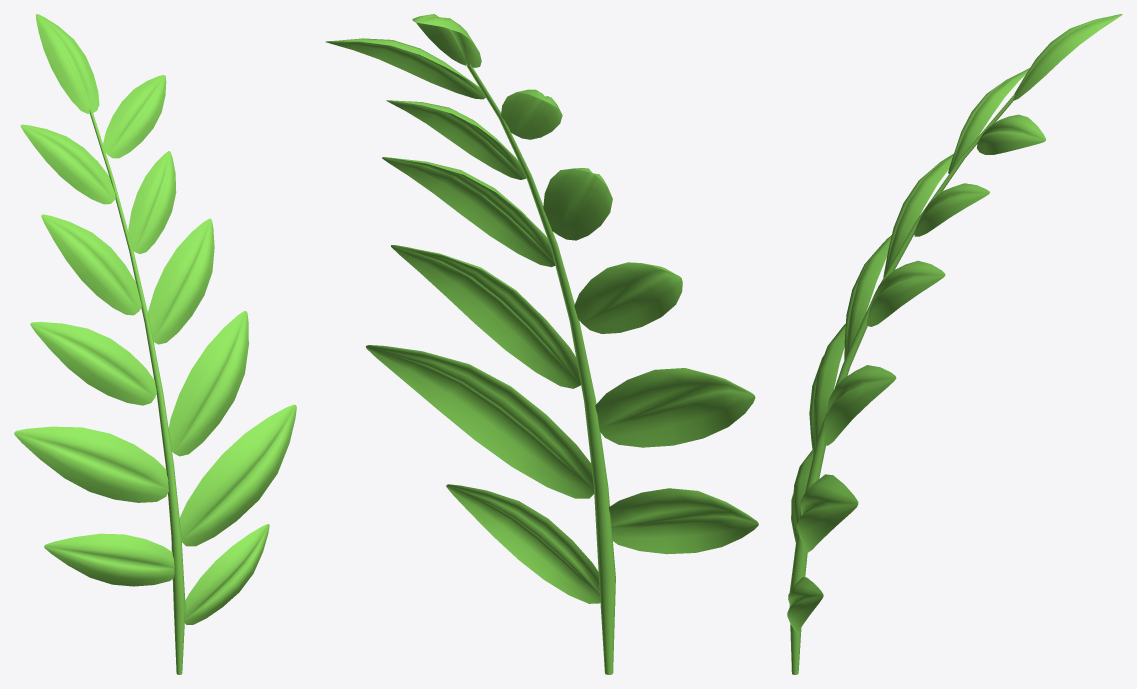
Rendered from leaf-draco.glb.
3 renders of one model, left to right at view 1: azimuth 30°, elevation 25°; view 2: azimuth 150°, elevation 25°; view 3: azimuth 270°, elevation 25°, orthographic. The views are drawn at different scales.
Visible parts, largest first — view 1: Vert.009; view 2: Vert.009; view 3: Vert.009.
Boxes of the visible parts, x1,y1,x2,y2 form: Vert.009: (14,14,296,674); Vert.009: (325,14,758,674); Vert.009: (787,14,1122,674).
Size of what is drawn, in the model's own units: 1.67 by 3.21 by 1.49.
